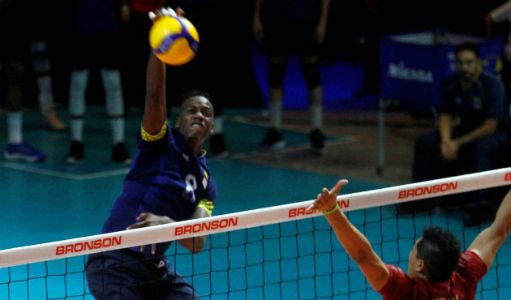voleibol: (149, 16, 200, 66)
